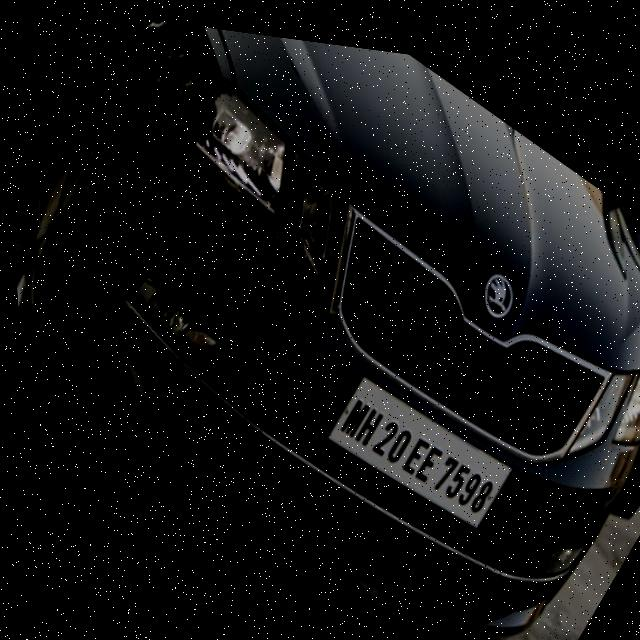license_plate: (318, 354, 508, 524)
